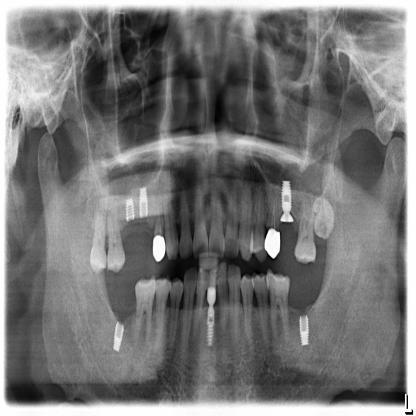Bicon: (280, 178, 296, 223), (298, 313, 310, 347), (206, 304, 215, 347), (113, 319, 124, 352), (140, 186, 150, 218), (126, 196, 136, 221)
